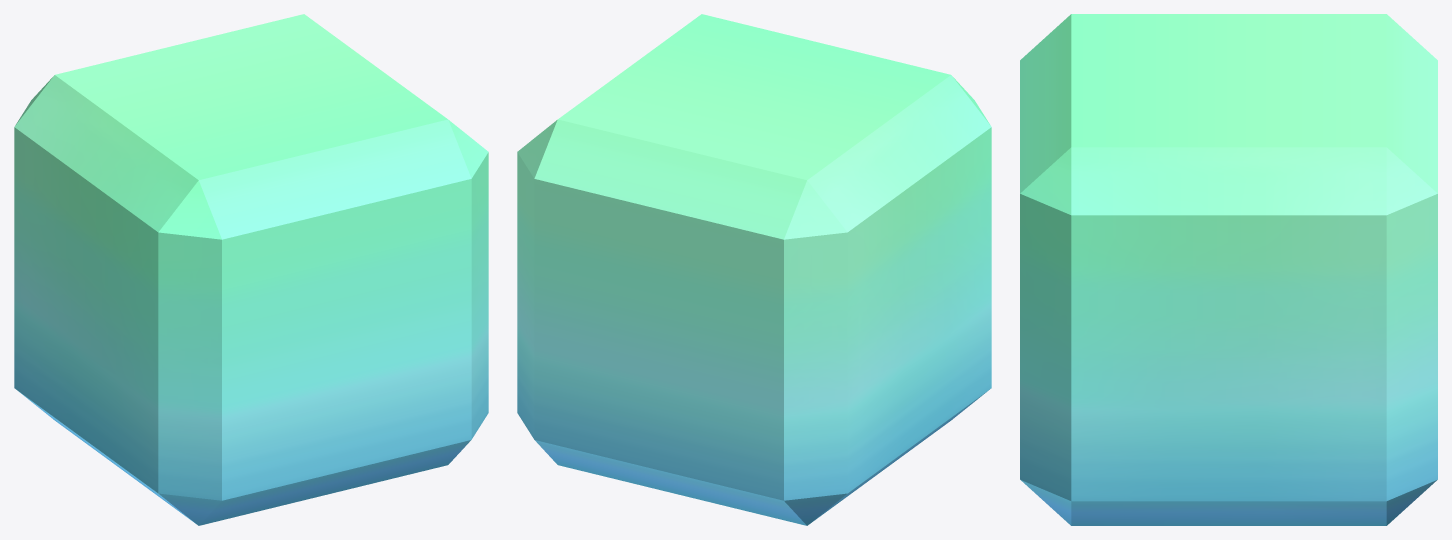
The model's file is 5054f80d-ffc3-44ac-b0f5-04b969e6021c.glb.
The picture shows the model from 3 angles, left to right: view 1: azimuth 30°, elevation 25°; view 2: azimuth 150°, elevation 25°; view 3: azimuth 270°, elevation 25°; orthographic projection. The views are drawn at different scales.
Parts seen in each view (by area): view 1: CyberPunkCubeShapeA.007; view 2: CyberPunkCubeShapeA.007; view 3: CyberPunkCubeShapeA.007.
Boxes of the visible parts, box(x1,y1,x2,y2) form: CyberPunkCubeShapeA.007: box(14, 14, 488, 525); CyberPunkCubeShapeA.007: box(517, 14, 991, 525); CyberPunkCubeShapeA.007: box(1020, 14, 1437, 525).
Size of what is drawn, in the model's own units: 0.7462 by 0.7462 by 0.7462.
Materials: 1 (1 with a texture image).
